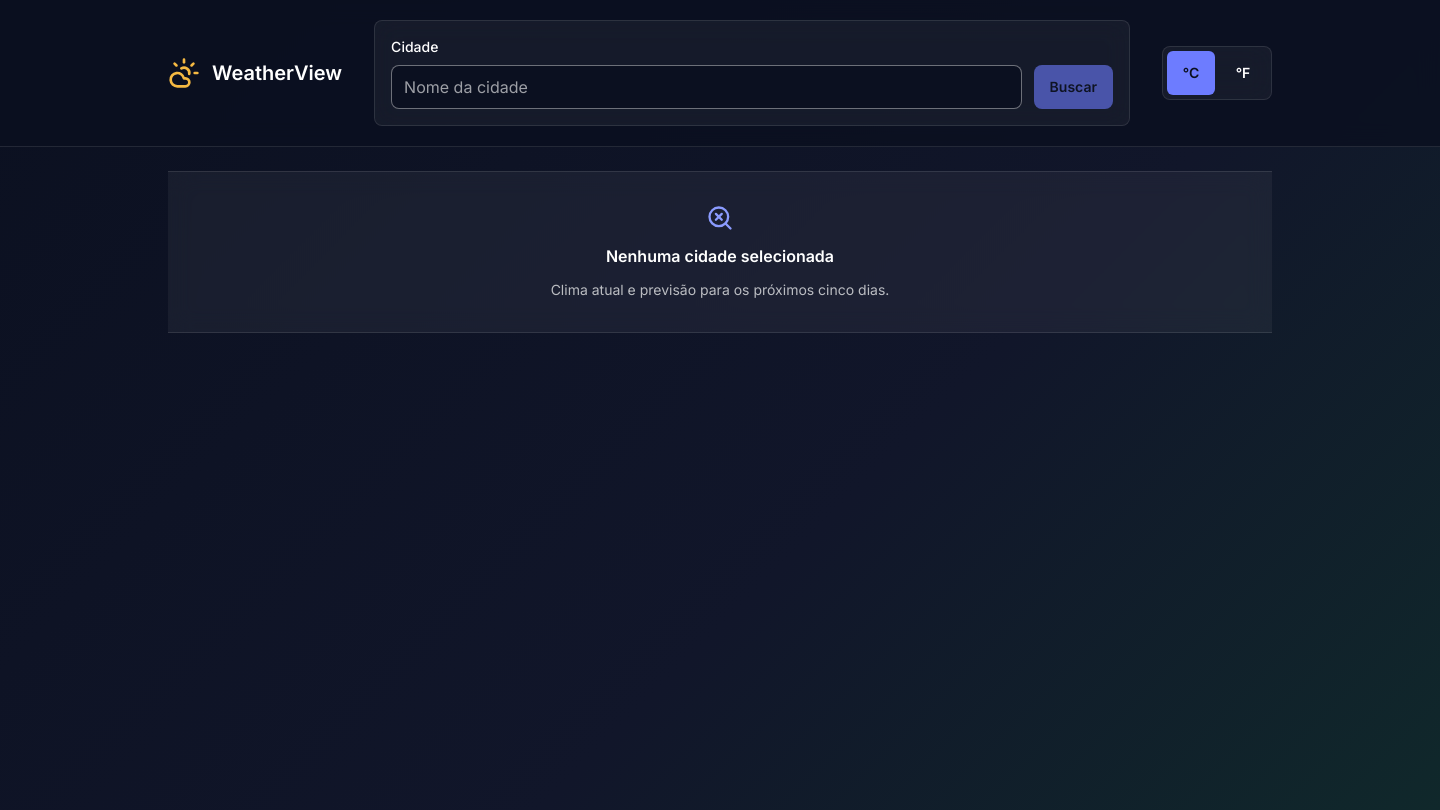
Test: App › exibe erro e tenta novamente com a mesma cidade
Type "São Paulo" into the search field at point(706, 87), box top-left (391, 65), bottom-right (1022, 109)
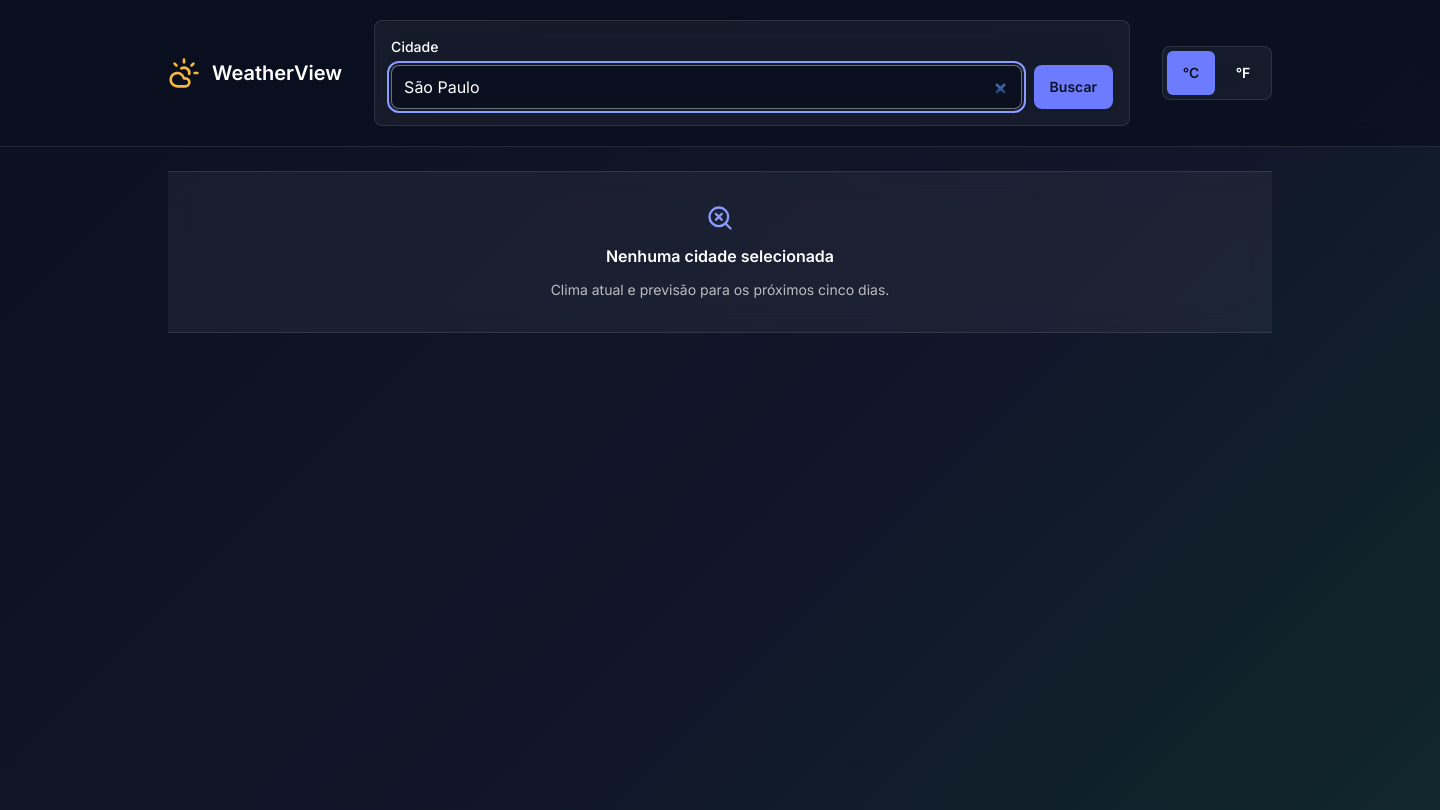
Click the button "Buscar" at point(1073, 87), box top-left (1034, 65), bottom-right (1113, 109)
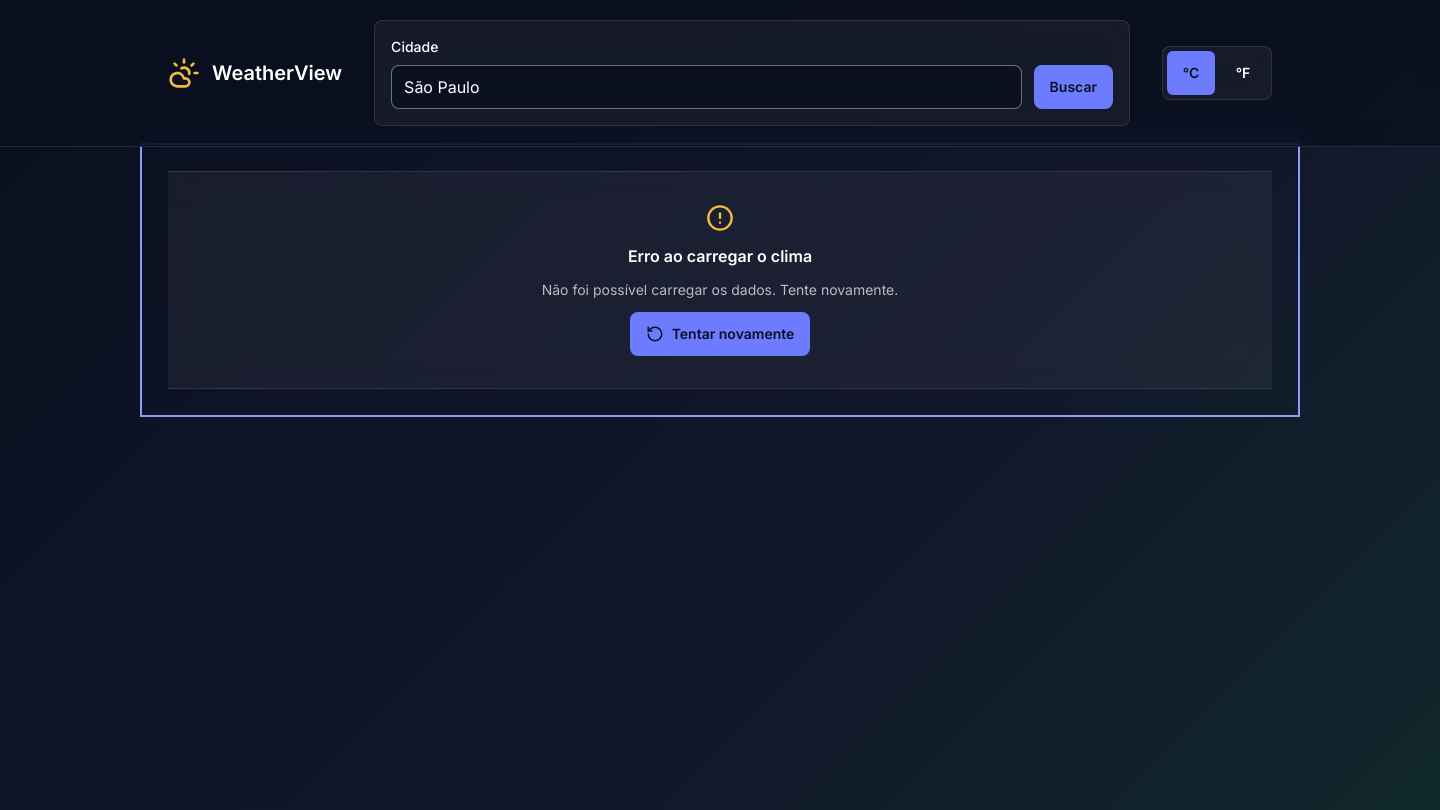
Check: the message is shown, box top-left (168, 171), bottom-right (1272, 389)
Click the button "Tentar novamente" at point(720, 334), box top-left (630, 312), bottom-right (810, 356)
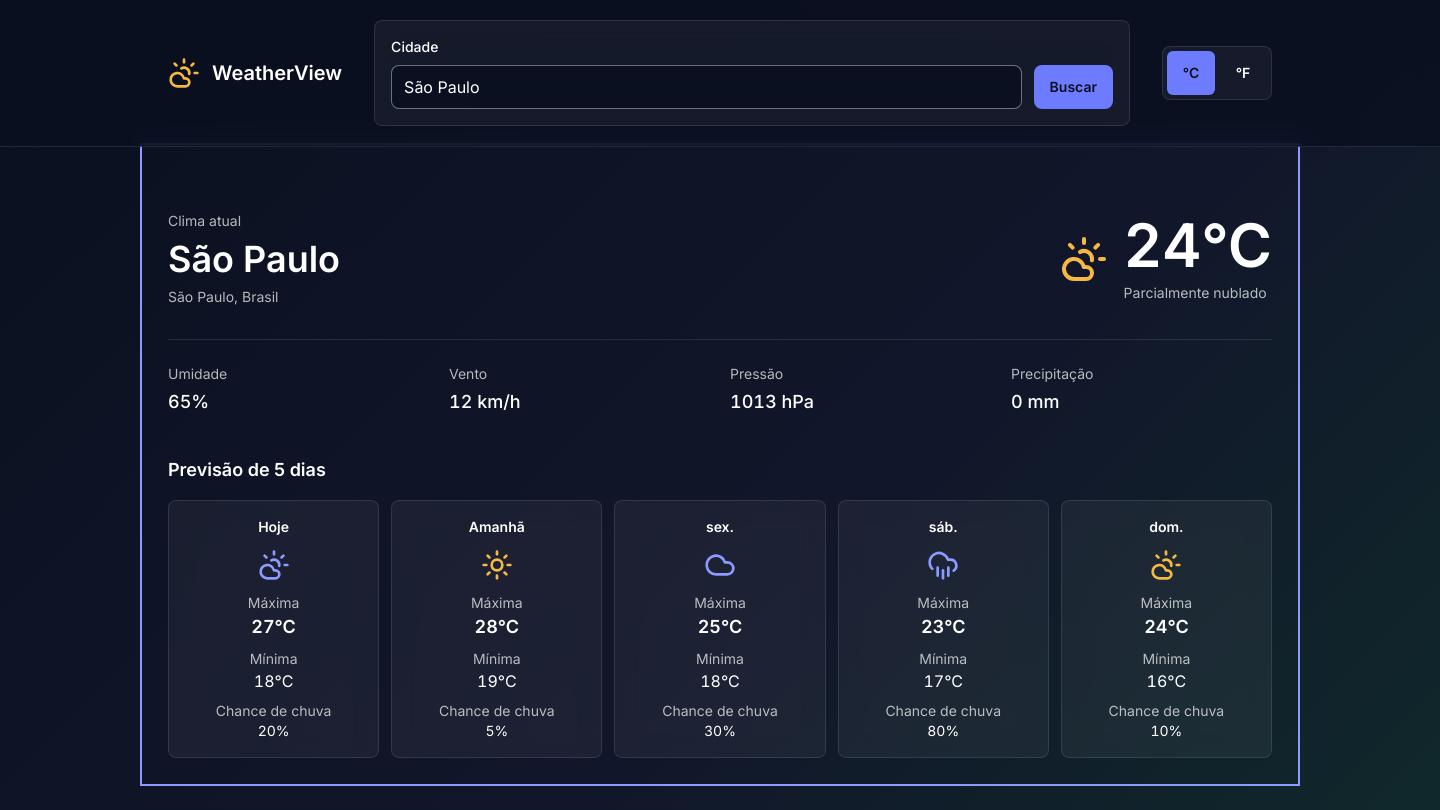
Check: the heading "São Paulo" is shown, box top-left (168, 239), bottom-right (340, 279)
